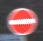No entry: (5, 6, 38, 36)
